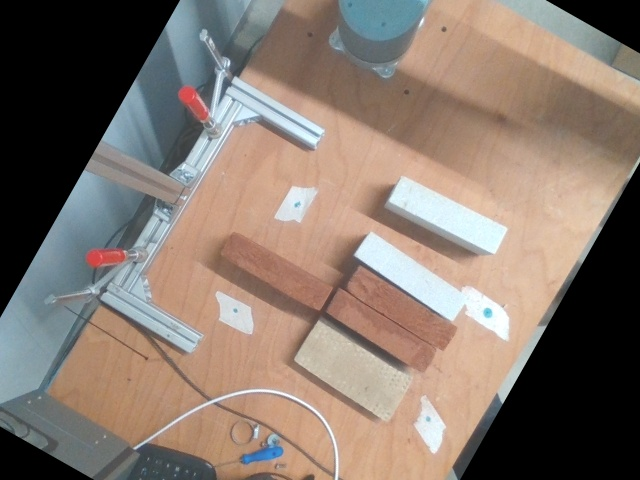brick: (293, 321, 412, 418)
brick-side: (356, 231, 468, 322), (344, 266, 456, 351), (389, 176, 506, 255), (326, 290, 437, 373), (222, 235, 331, 310)
